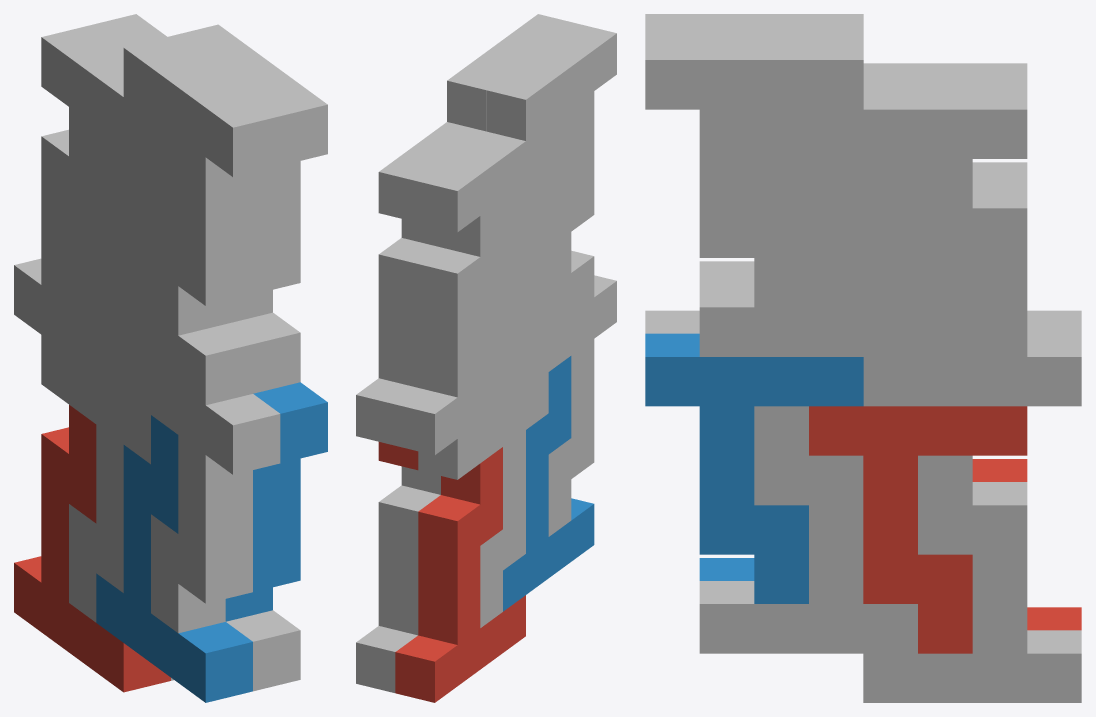
File: tiling.obj
3 views of the same model, side by side, from view 1: azimuth 30°, elevation 25°; view 2: azimuth 150°, elevation 25°; view 3: azimuth 270°, elevation 25° (orthographic). The views are drawn at different scales.
Parts seen in each view (by area): view 1: copy_2_domain_4, copy_2_domain_2, copy_1_domain_4, copy_1_domain_2, copy_2_domain_3, copy_2_domain_8, copy_1_domain_1, copy_1_domain_3, copy_2_domain_1, copy_2_domain_6, copy_1_domain_6, copy_1_domain_8 (+1 smaller); view 2: copy_1_domain_1, copy_1_domain_3, copy_2_domain_4, copy_2_domain_3, copy_2_domain_1, copy_1_domain_7, copy_1_domain_5, copy_2_domain_2, copy_1_domain_4, copy_1_domain_2, copy_2_domain_8, copy_2_domain_7 (+1 smaller); view 3: copy_2_domain_8, copy_2_domain_7, copy_1_domain_7, copy_1_domain_5, copy_2_domain_6, copy_1_domain_6, copy_1_domain_8, copy_2_domain_5, copy_2_domain_4, copy_2_domain_3, copy_1_domain_3, copy_1_domain_1 (+3 smaller).
Part boxes in pixels (x1,y1,x2,y2): copy_2_domain_4: (123,36,280,335); copy_2_domain_2: (123,345,280,633); copy_1_domain_4: (96,117,252,405); copy_1_domain_2: (96,415,252,702); copy_2_domain_3: (41,25,150,324); copy_2_domain_8: (171,24,327,323); copy_1_domain_1: (14,405,170,692); copy_1_domain_3: (14,107,123,394); copy_2_domain_1: (41,335,150,622); copy_2_domain_6: (225,382,327,621); copy_1_domain_6: (226,610,300,691); copy_1_domain_8: (226,312,300,393); copy_1_domain_1: (395,447,525,702); copy_1_domain_3: (395,199,525,455); copy_2_domain_4: (486,23,616,288); copy_2_domain_3: (418,125,548,380); copy_2_domain_1: (418,372,548,627); copy_1_domain_7: (356,219,440,445); copy_1_domain_5: (356,466,440,692); copy_2_domain_2: (526,275,616,536); copy_1_domain_4: (503,108,594,363); copy_1_domain_2: (503,356,594,611); copy_2_domain_8: (447,14,576,131); copy_2_domain_7: (378,122,485,222); copy_2_domain_8: (645,37,863,307); copy_2_domain_7: (809,86,1027,356); copy_1_domain_7: (863,159,1081,406); copy_1_domain_5: (863,455,1081,702); copy_2_domain_6: (645,333,863,603); copy_1_domain_6: (699,406,917,653); copy_1_domain_8: (699,109,917,356); copy_2_domain_5: (809,406,1027,653); copy_2_domain_4: (645,14,863,36); copy_2_domain_3: (863,63,1027,86); copy_1_domain_3: (972,162,1081,333); copy_1_domain_1: (972,459,1081,630).
Bounding box in the file's own units: 2 × 13 × 8.
